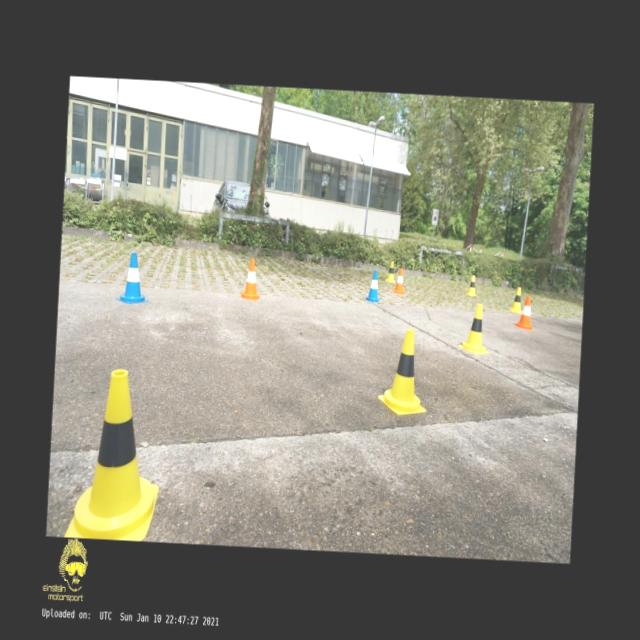blue_cone: (116, 252, 151, 304), (366, 270, 381, 302)
orange_cone: (240, 258, 261, 300), (514, 295, 534, 330), (393, 268, 406, 294)
yellow_cone: (64, 366, 165, 542), (378, 328, 430, 416), (459, 303, 492, 354), (509, 286, 523, 314), (384, 260, 396, 283), (466, 275, 478, 297)
